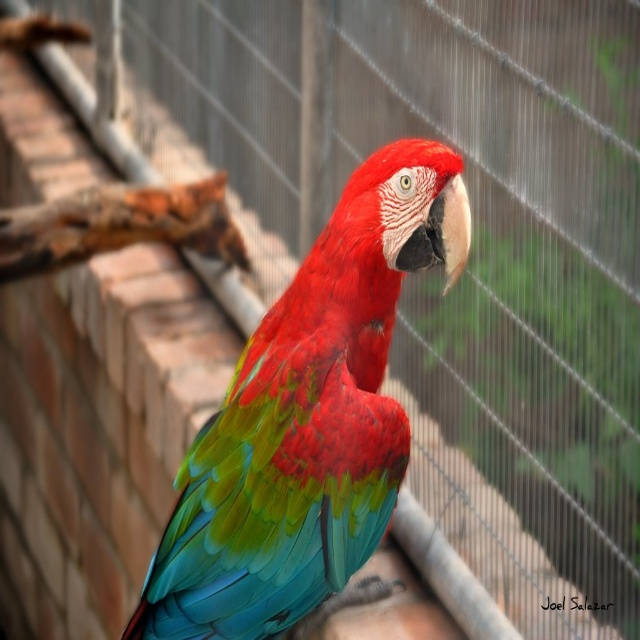Parrot: (120, 138, 472, 639)
